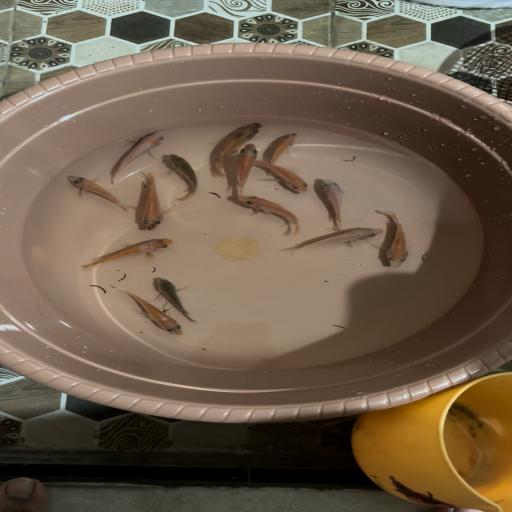nila: (103, 287, 192, 336), (78, 235, 181, 273), (276, 226, 389, 258), (105, 129, 172, 180), (229, 194, 308, 234), (148, 276, 214, 323), (368, 210, 418, 272), (60, 172, 130, 214), (208, 118, 264, 170), (154, 152, 209, 202), (312, 176, 360, 229), (134, 174, 174, 231), (229, 144, 265, 196), (258, 162, 316, 193), (266, 130, 304, 162)
